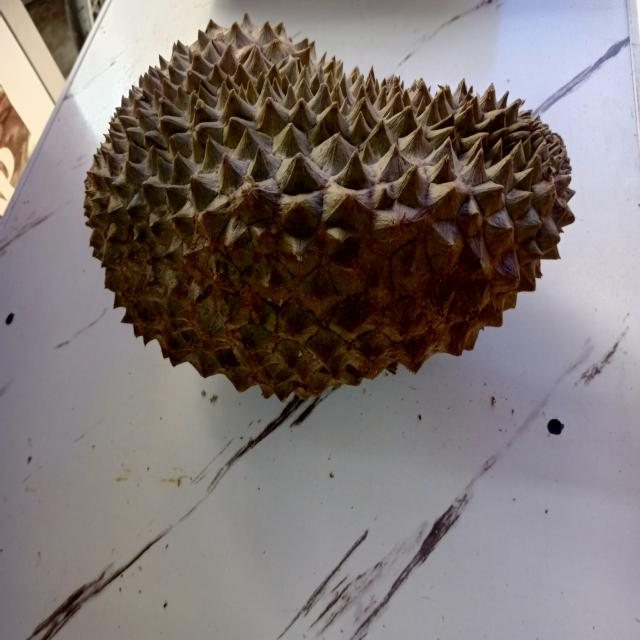mature: (71, 8, 606, 424)
